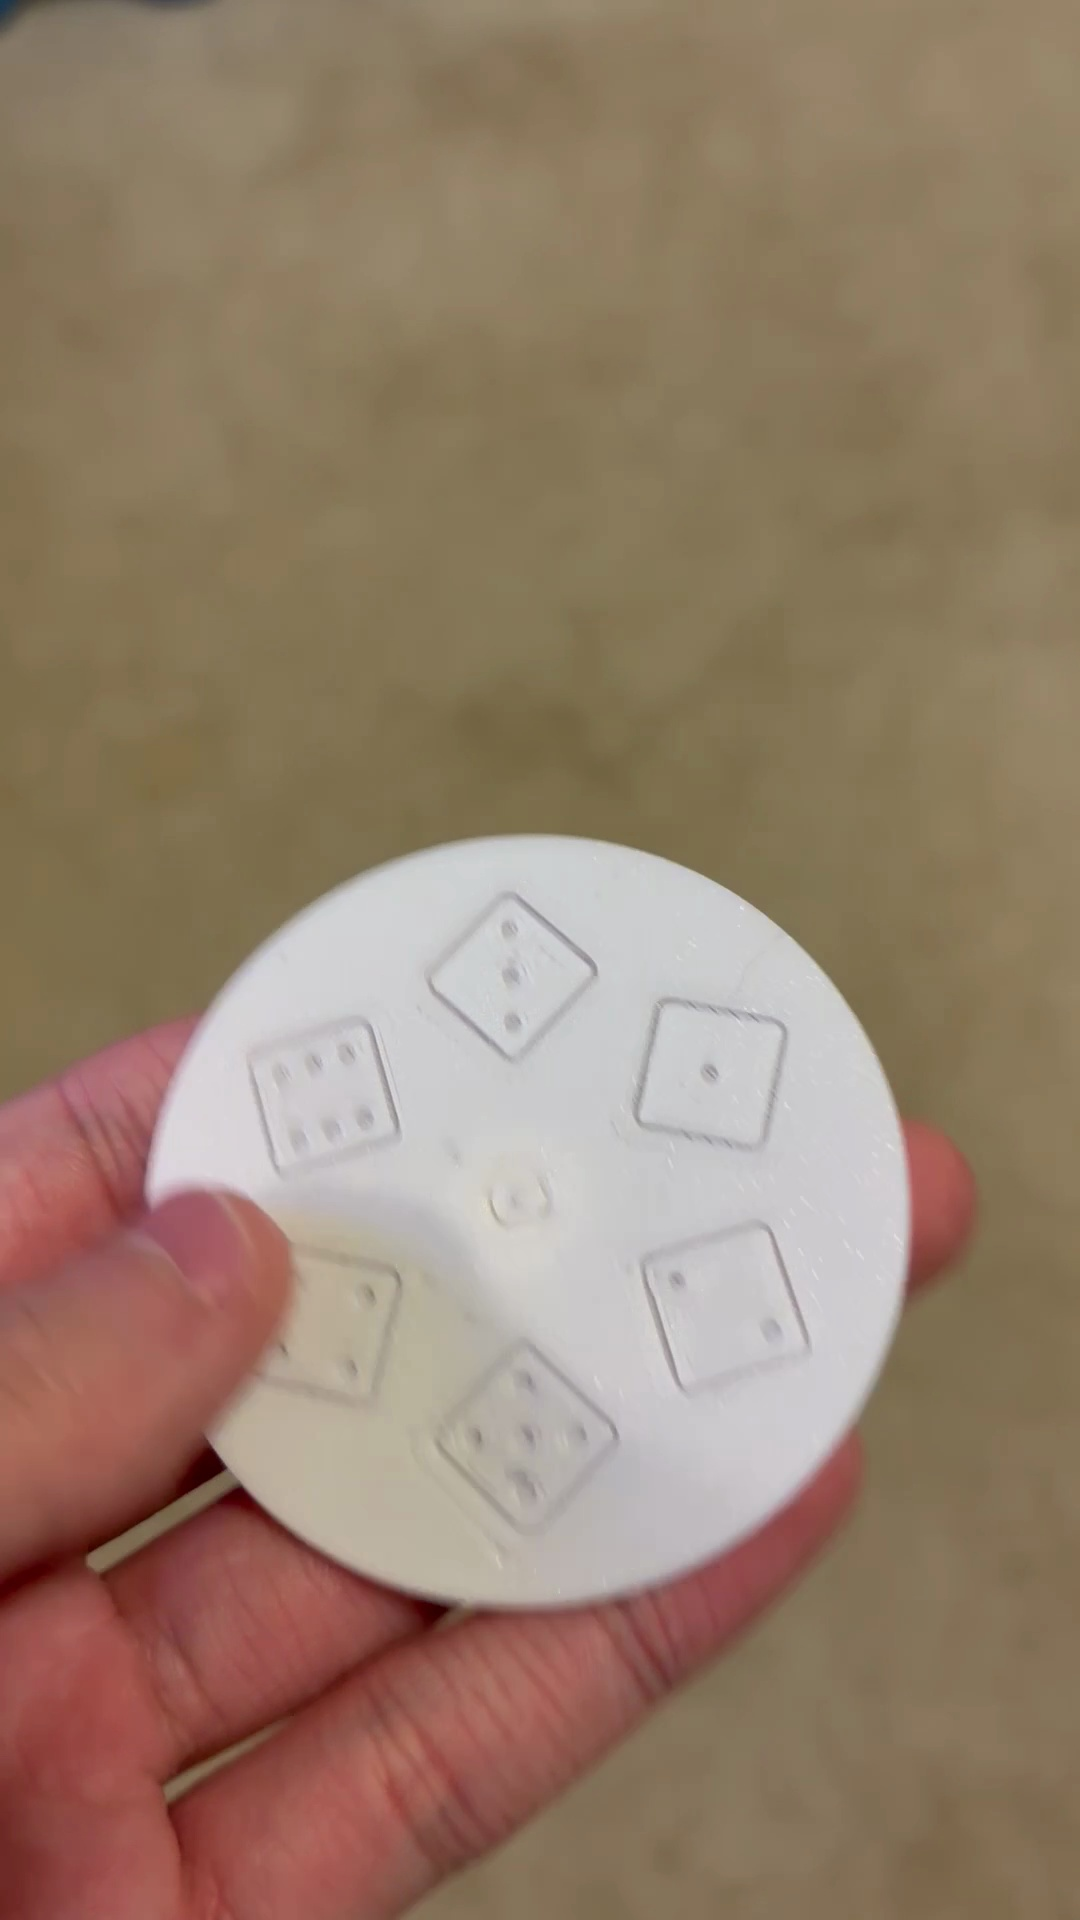Part1: (147, 837, 907, 1609)
